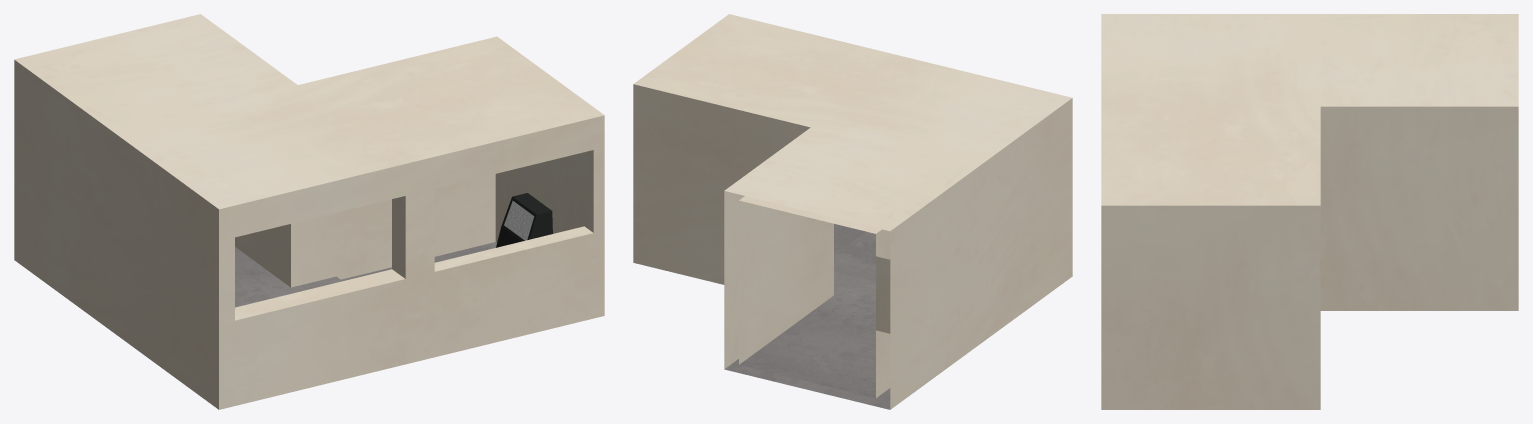
Rendered from BinCornerEndPc.fbx.
The picture shows the model from 3 angles, left to right: view 1: azimuth 30°, elevation 25°; view 2: azimuth 150°, elevation 25°; view 3: azimuth 270°, elevation 25°; orthographic projection. The views are drawn at different scales.
Visible parts, largest first — view 1: rubbish_chute; view 2: rubbish_chute; view 3: rubbish_chute.
Boxes of the visible parts, <box> form: rubbish_chute: <box>14,14,604,409</box>; rubbish_chute: <box>633,14,1072,409</box>; rubbish_chute: <box>1101,14,1518,409</box>.
Bounding box in the file's own units: 5.97 × 2.97 × 5.49.
